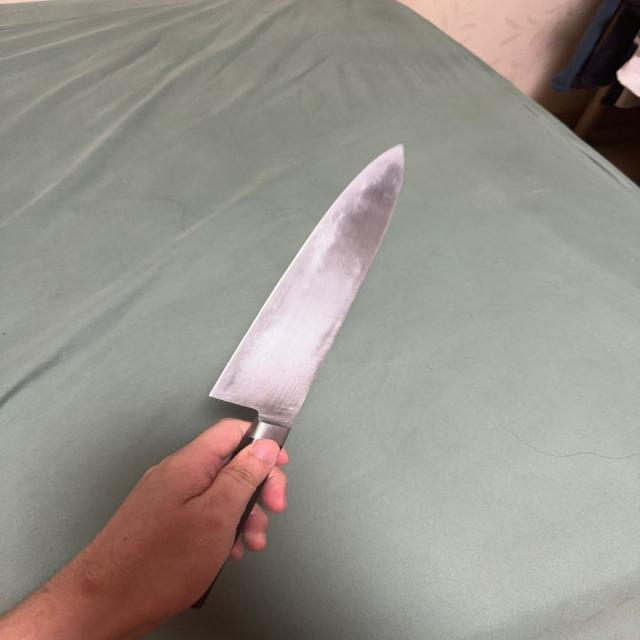knife: (207, 133, 411, 482)
